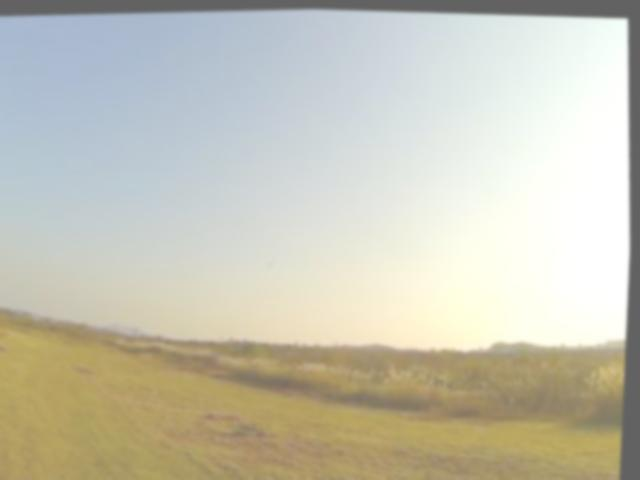uav: (262, 250, 280, 271)
